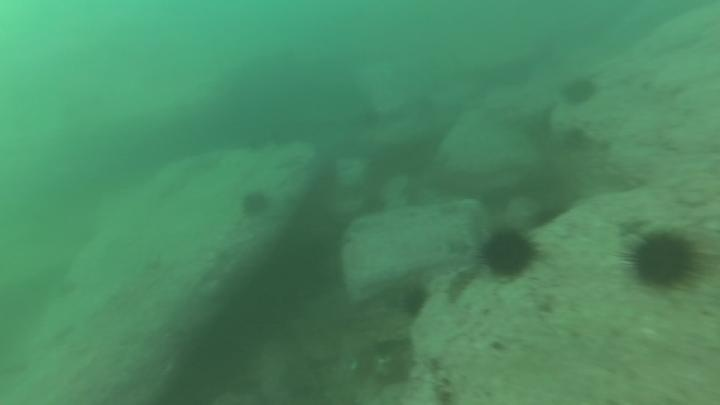echinus: (621, 226, 704, 294), (477, 225, 541, 282), (559, 74, 599, 109), (397, 282, 432, 322), (477, 184, 516, 218), (357, 188, 396, 222), (238, 188, 272, 220)
holothurian: (443, 263, 482, 307)
